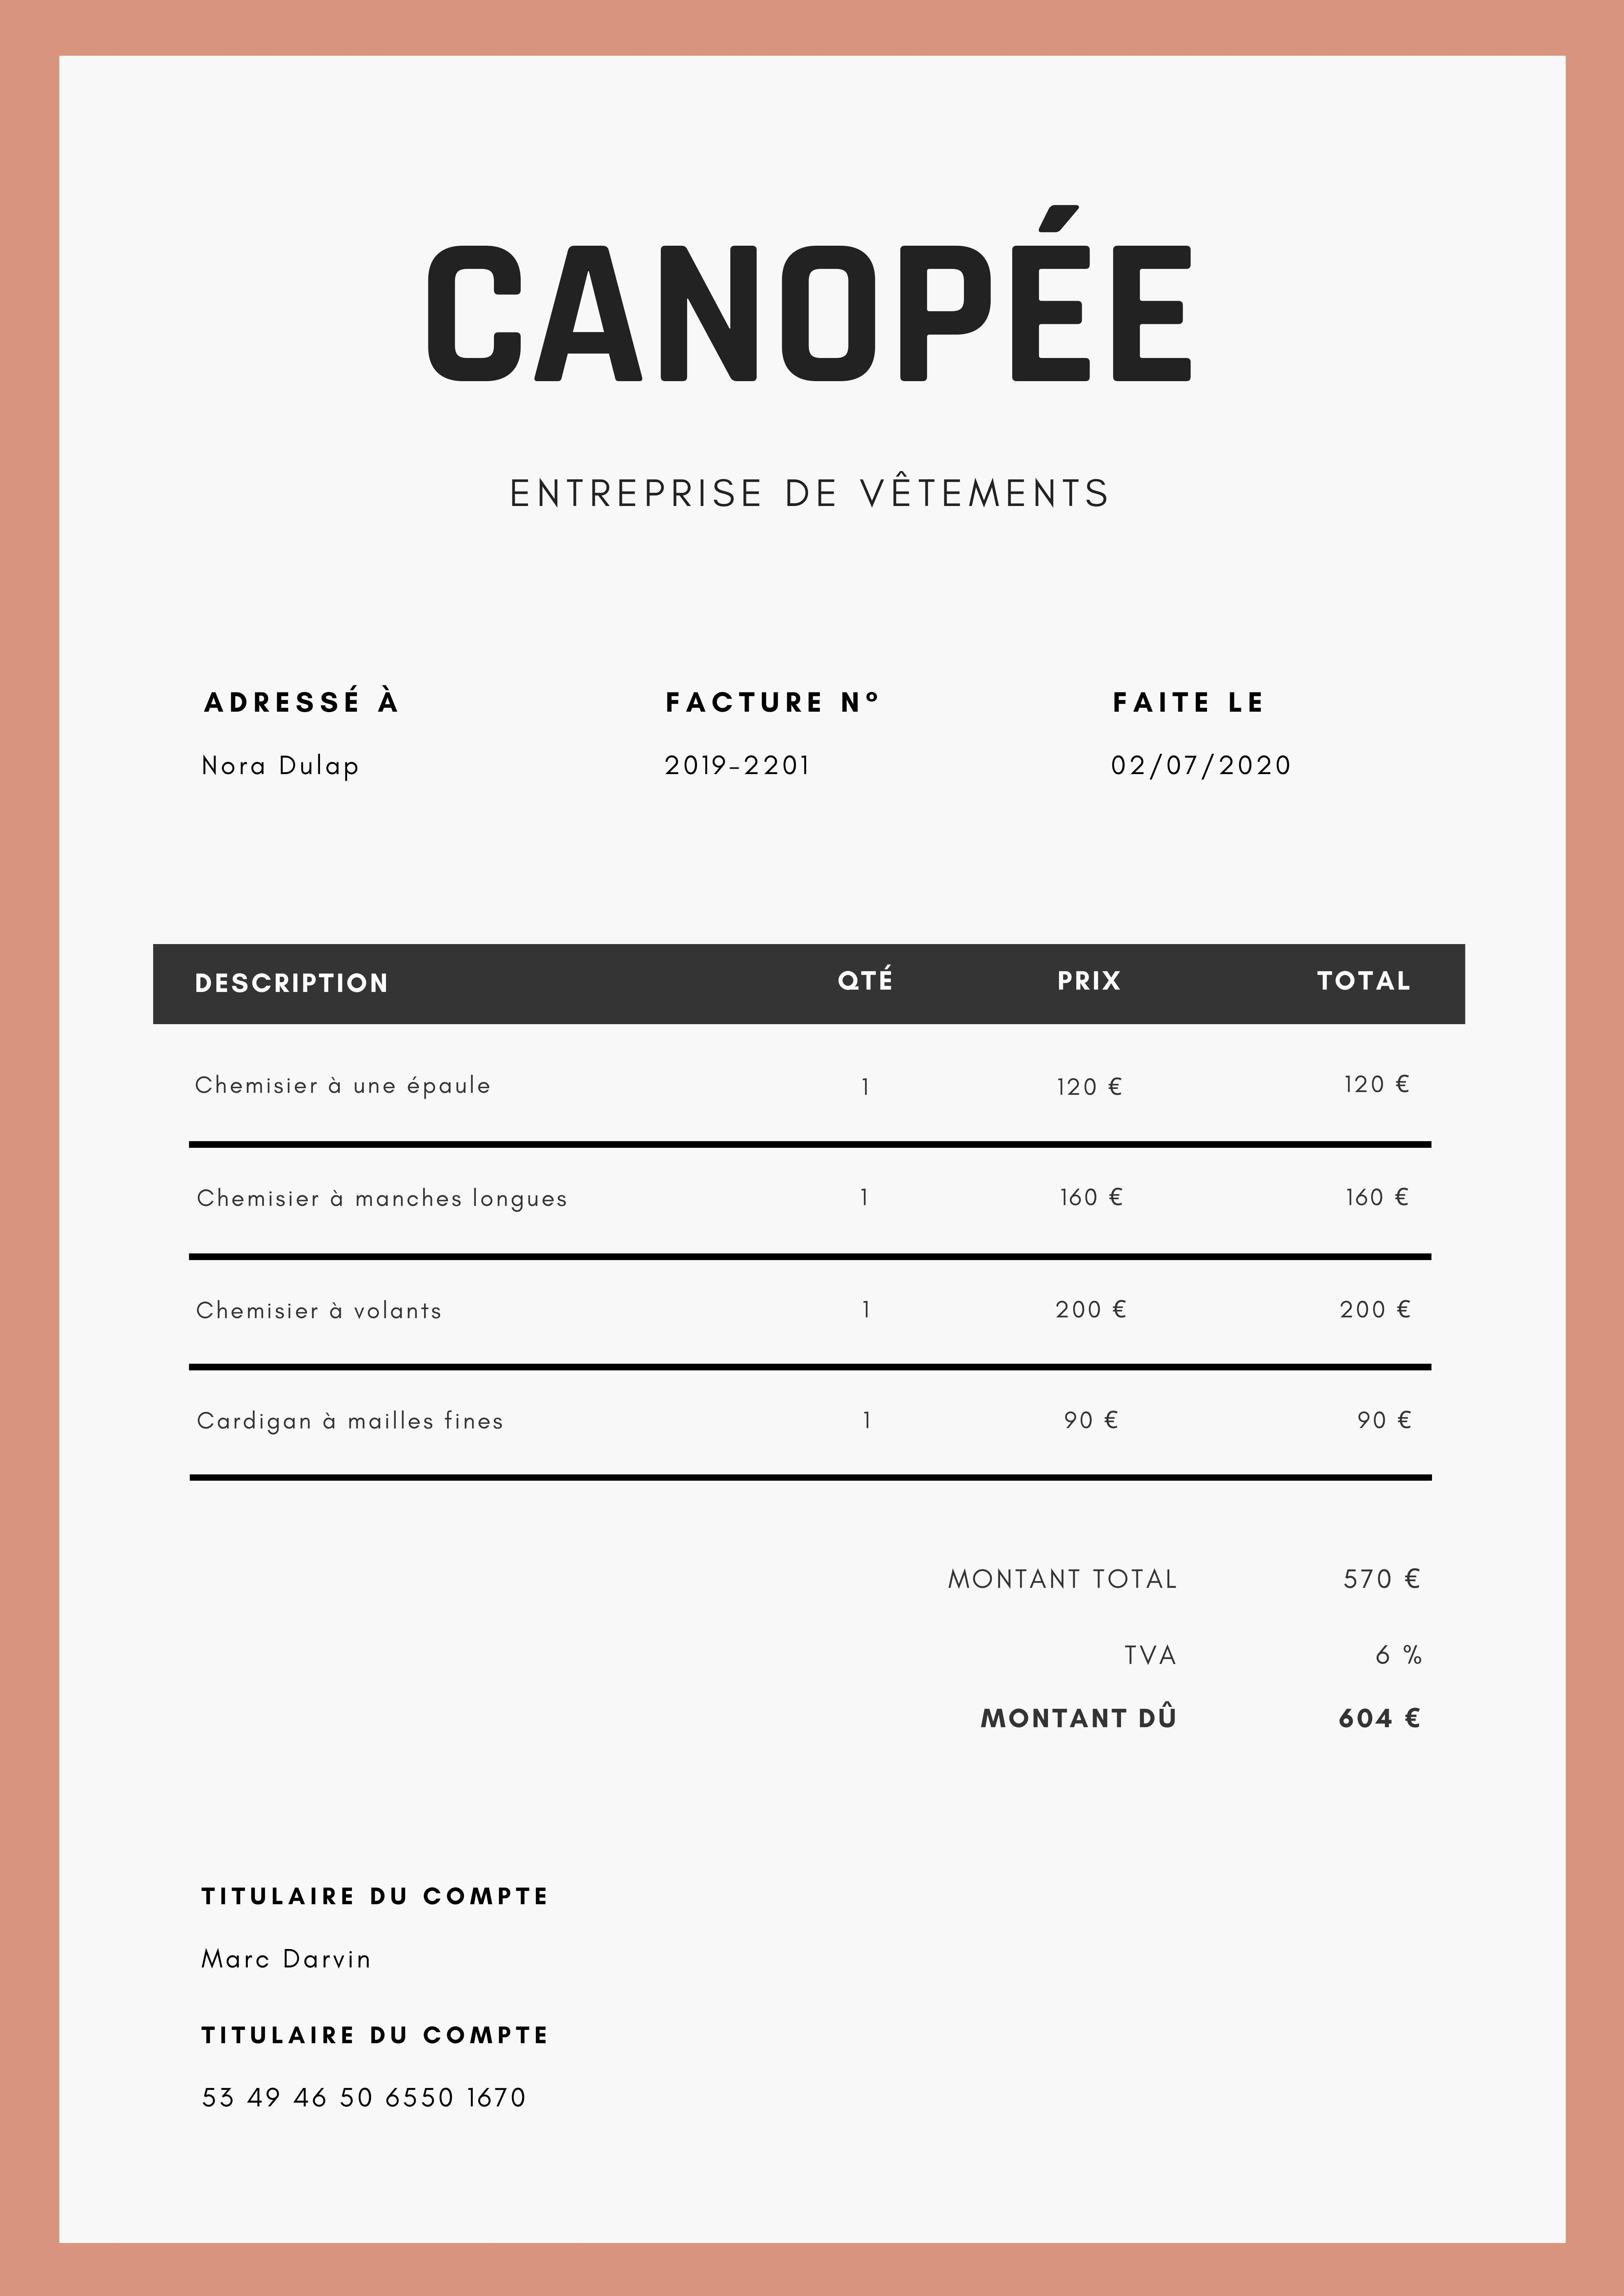ROI: (162, 942, 1454, 1486), (413, 184, 1234, 541), (178, 1862, 571, 2157), (930, 1544, 1443, 1762), (612, 661, 1334, 808), (174, 661, 443, 810)
